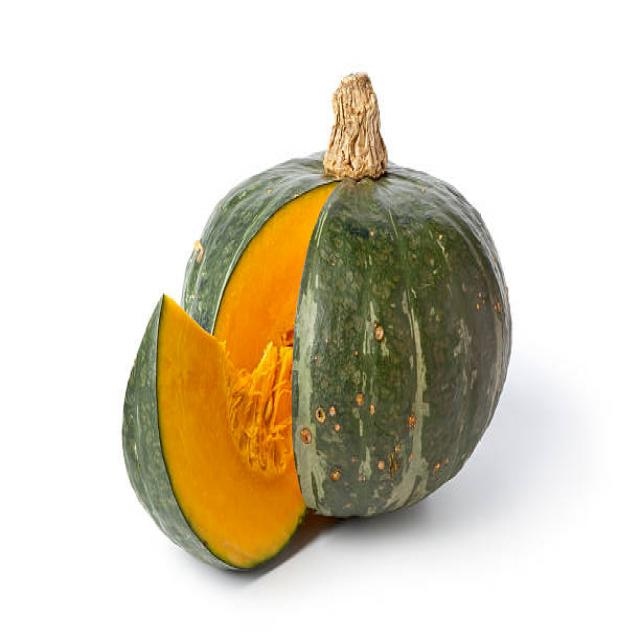Pumpkin: (289, 72, 512, 522), (116, 289, 275, 580)
